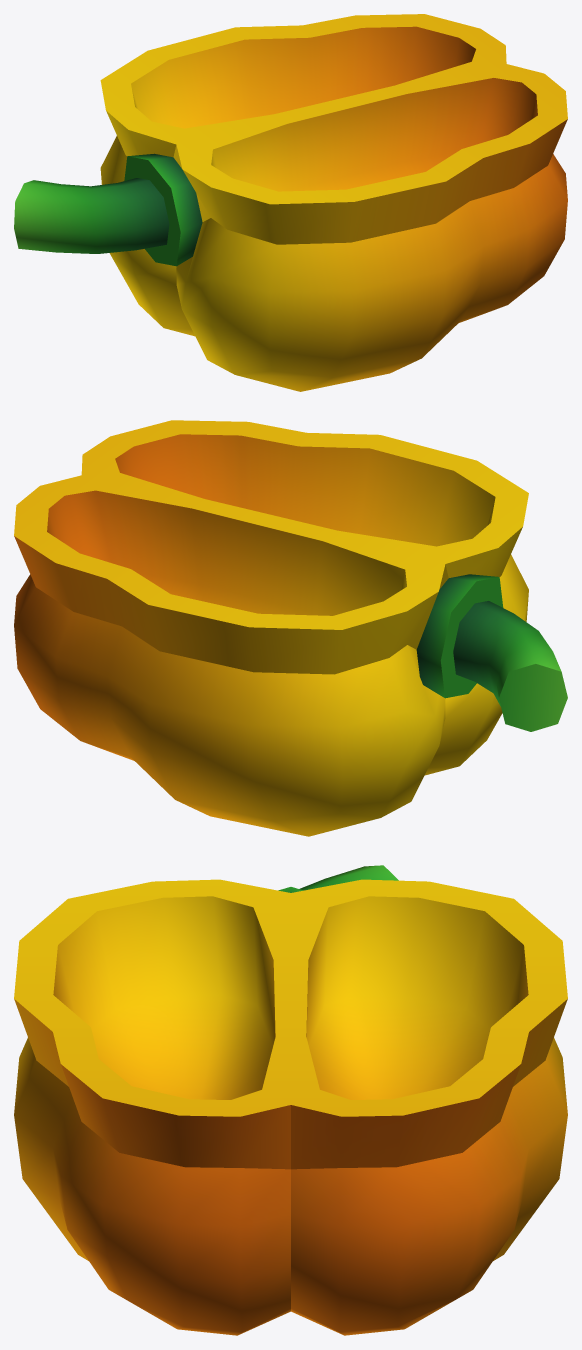
File: Bell_Pepper_Slice_02.glb
3 renders of one model, top to bottom at view 1: azimuth 30°, elevation 25°; view 2: azimuth 150°, elevation 25°; view 3: azimuth 270°, elevation 25°, orthographic. The views are drawn at different scales.
Parts seen in each view (by area): view 1: Bell_Pepper_Slice_02; view 2: Bell_Pepper_Slice_02; view 3: Bell_Pepper_Slice_02.
Boxes of the visible parts, bbox=[...] form: Bell_Pepper_Slice_02: bbox=[14, 14, 567, 391]; Bell_Pepper_Slice_02: bbox=[14, 420, 567, 836]; Bell_Pepper_Slice_02: bbox=[14, 865, 567, 1335].
Size of the model in its own units: 0.3569 by 0.1678 by 0.2682.
Materials: 1 (1 with a texture image).
